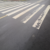zebra: (1, 1, 49, 30)
